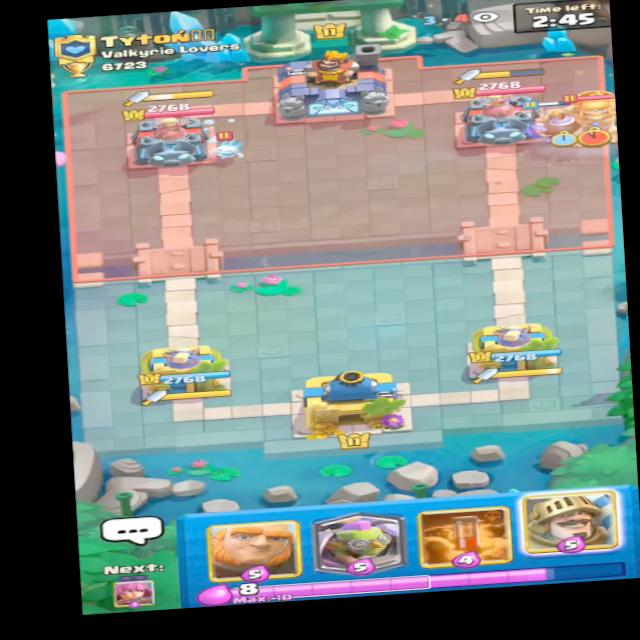Giantskeleton: (533, 86, 632, 148)
Icespirit: (208, 133, 250, 162)
